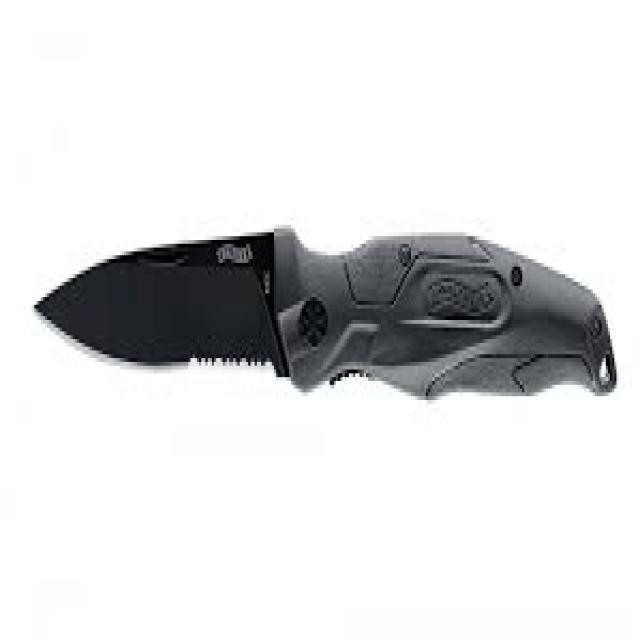knife: (26, 222, 624, 432)
